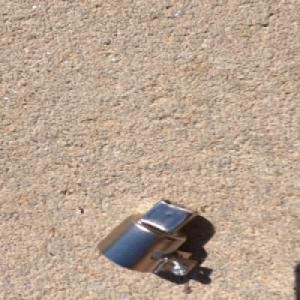MetalPart: (95, 199, 201, 278)
